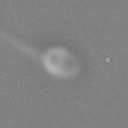normal: (1, 29, 44, 61)
